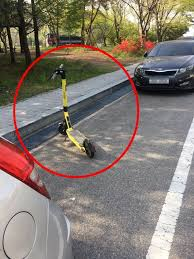kick_board: (47, 61, 95, 158)
kick_handler: (51, 62, 67, 80)
kick_neck: (62, 80, 70, 119)
kick_wheel: (83, 140, 95, 158), (57, 122, 69, 136)
